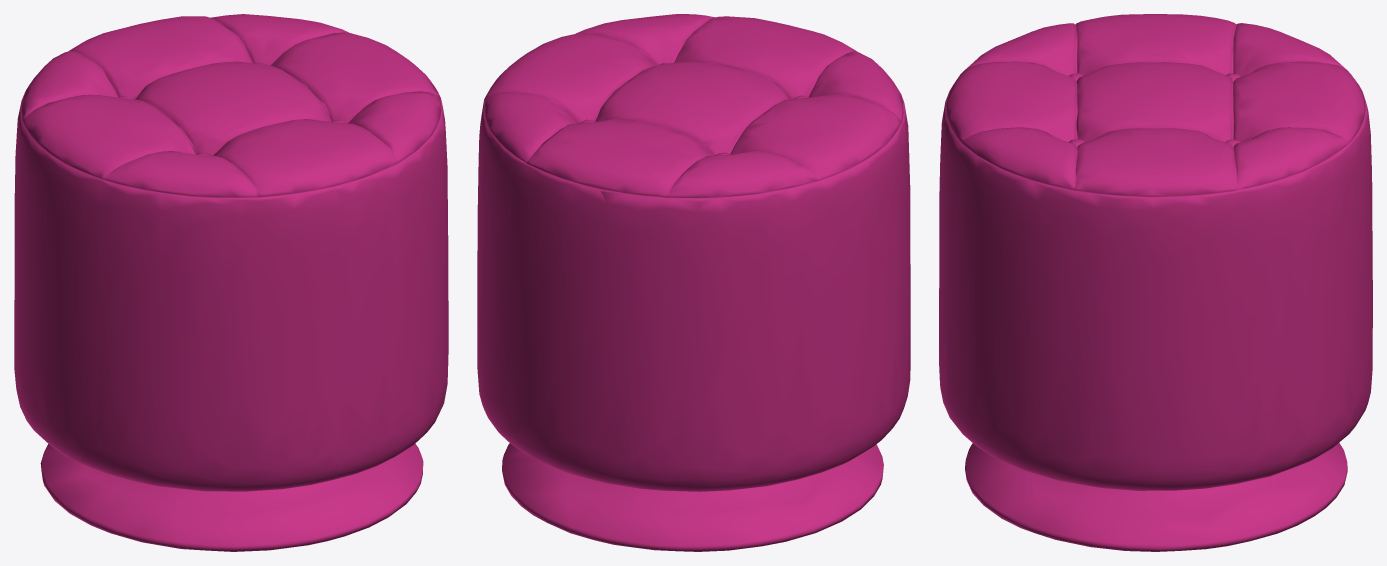
The model's file is cushion.fbx.
3 renders of one model, left to right at view 1: azimuth 30°, elevation 25°; view 2: azimuth 150°, elevation 25°; view 3: azimuth 270°, elevation 25°, orthographic.
Visible parts, largest first — view 1: Leather_1, metal_1; view 2: Leather_1, metal_1; view 3: Leather_1, metal_1.
Part boxes in pixels (<box>): Leather_1: <box>14,14,448,491</box>; metal_1: <box>40,443,423,551</box>; Leather_1: <box>477,14,910,491</box>; metal_1: <box>502,443,883,551</box>; Leather_1: <box>939,14,1372,490</box>; metal_1: <box>965,443,1347,551</box>.
Size of the model in its own units: 4596 by 4494 by 4595.
